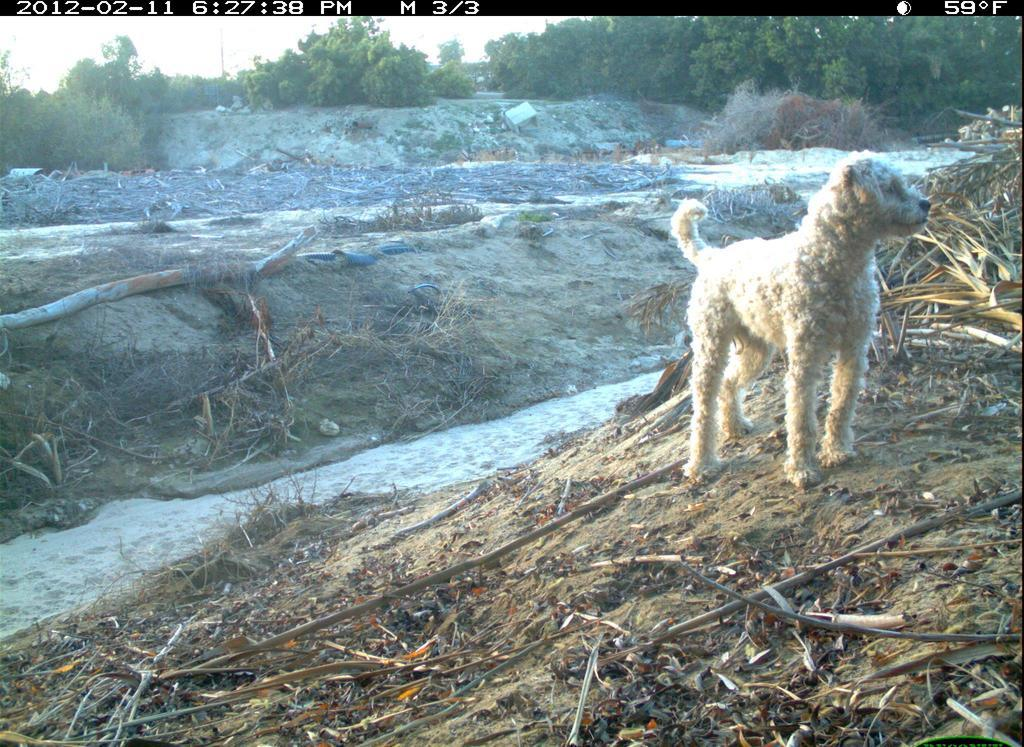dog: (662, 145, 937, 495)
